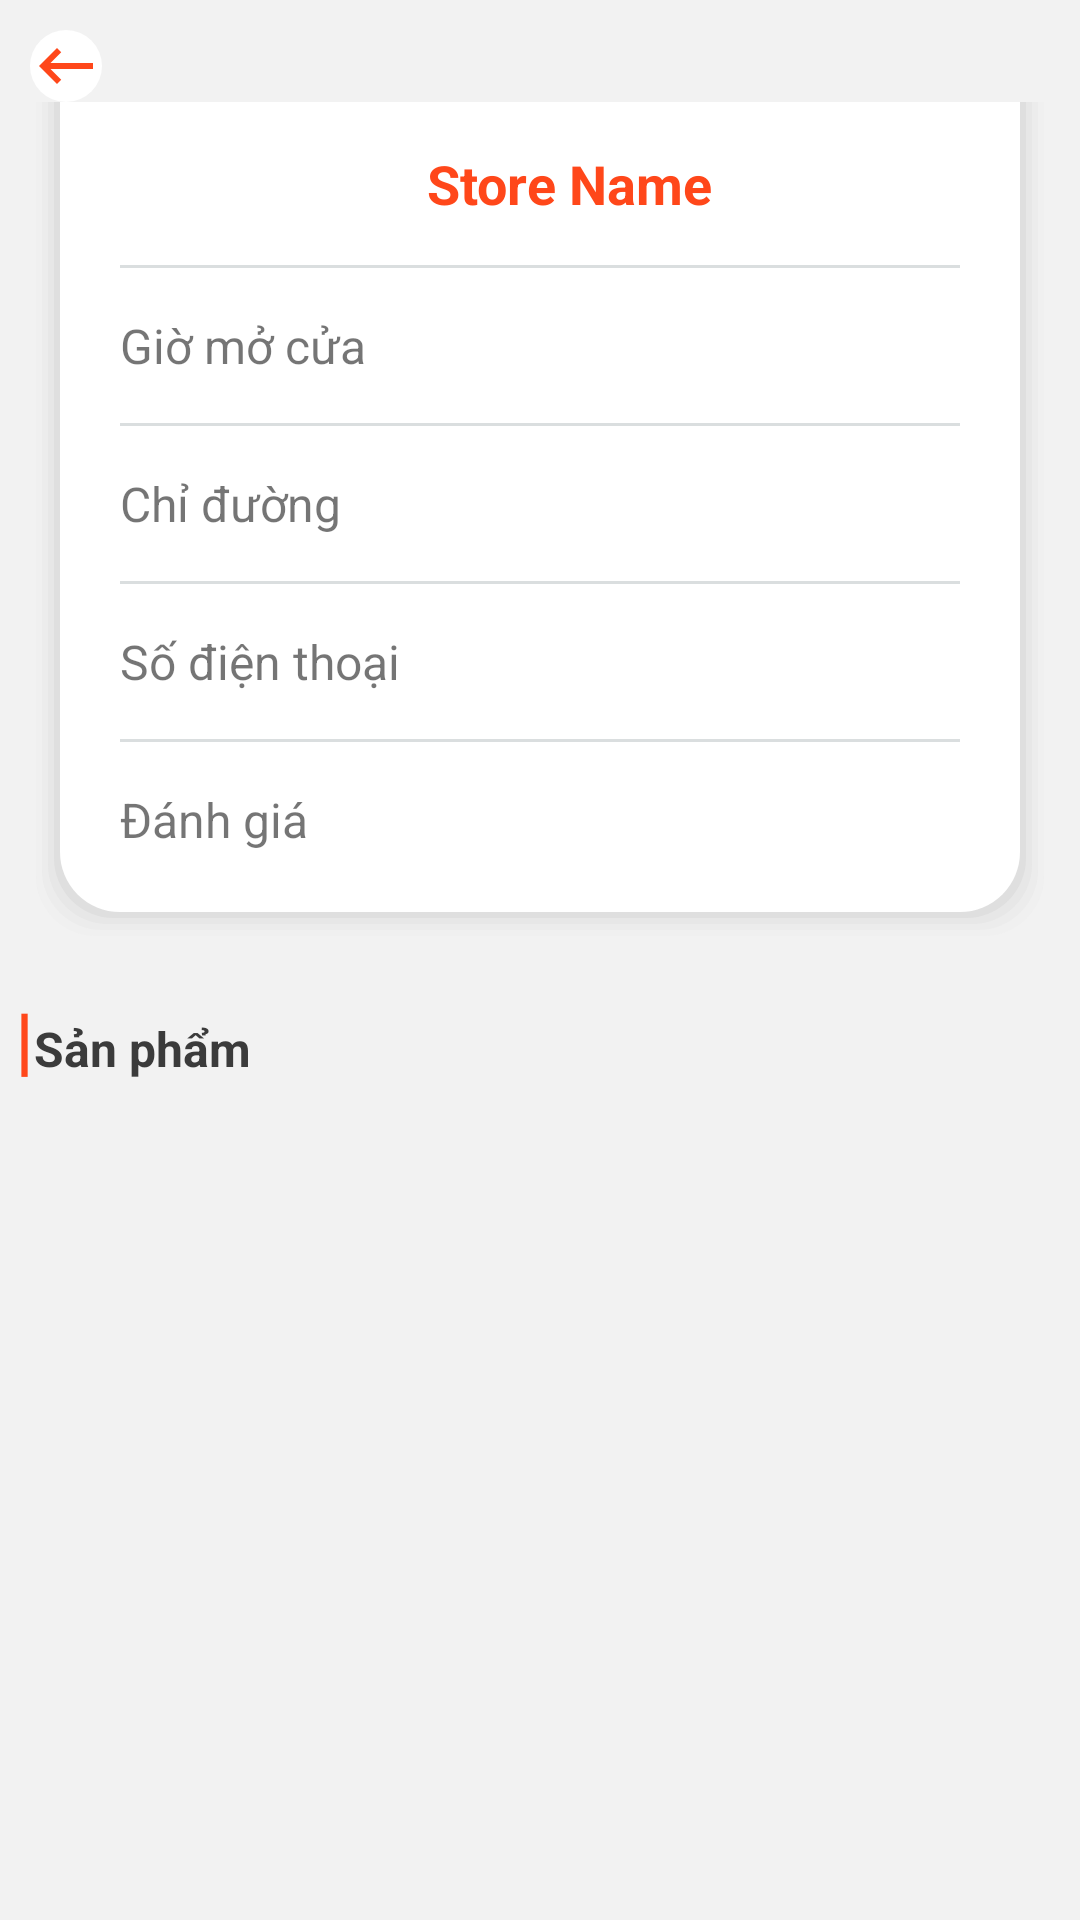

Icon click points for this 1080px×1920px phone screenshot, format point (x, y):
back: point (66, 66)
